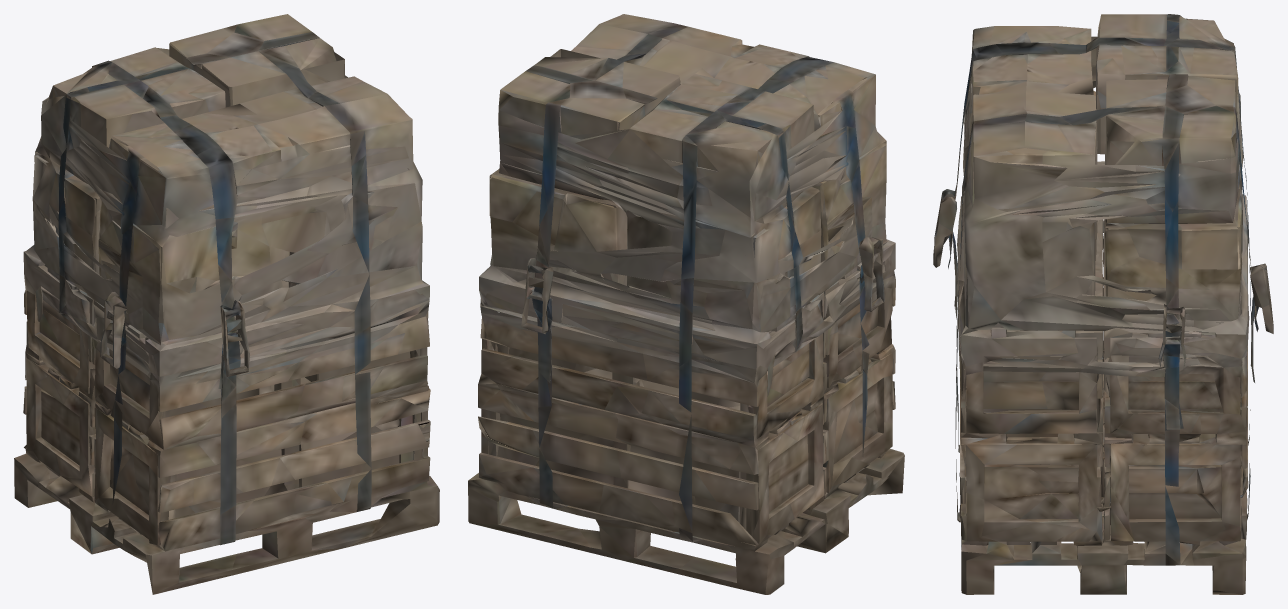
The model's file is palettes.glb.
3 views of the same model, side by side, from view 1: azimuth 30°, elevation 25°; view 2: azimuth 150°, elevation 25°; view 3: azimuth 270°, elevation 25° (orthographic). The views are drawn at different scales.
Visible parts, largest first — view 1: output_unwrapped; view 2: output_unwrapped; view 3: output_unwrapped.
Part boxes in pixels (x1,y1,x2,y2): output_unwrapped: (14, 14, 439, 594); output_unwrapped: (468, 14, 904, 594); output_unwrapped: (933, 14, 1273, 594).
Size of the model in its own units: 1.43 by 1.9 by 1.31.
1 material, 1 textured.
